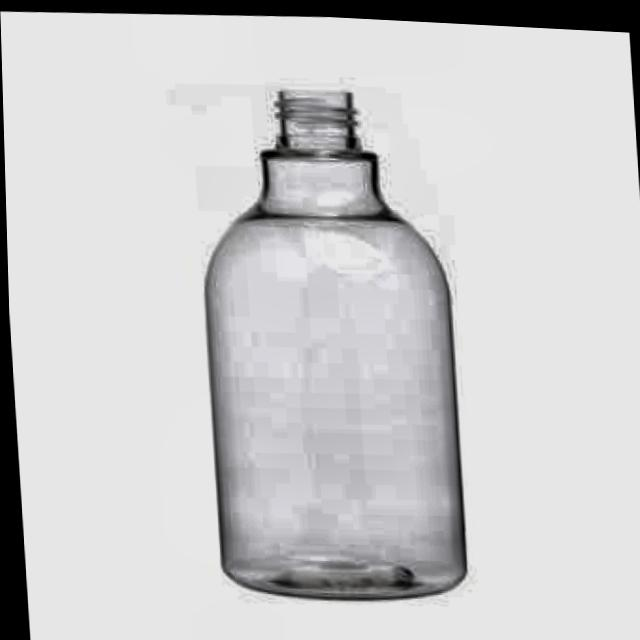Bottles: (157, 13, 505, 639)
